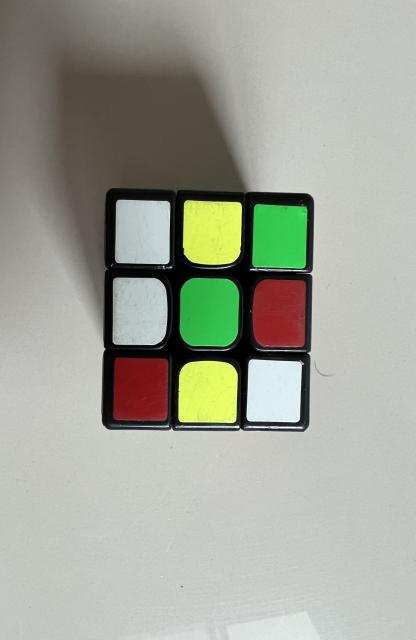Green: (180, 278, 239, 348), (252, 204, 308, 269)
Red: (252, 279, 306, 348), (113, 358, 168, 421)
White: (113, 278, 168, 345), (115, 199, 170, 264), (247, 359, 302, 422)
Yellow: (183, 200, 242, 265), (179, 361, 238, 424)
